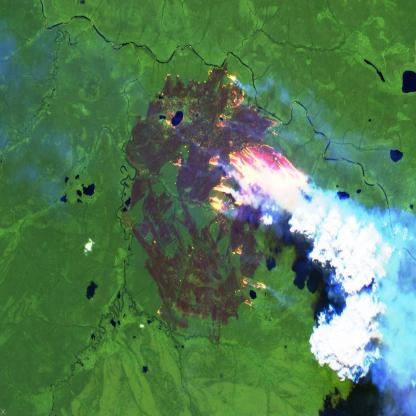fire: (151, 60, 313, 318)
